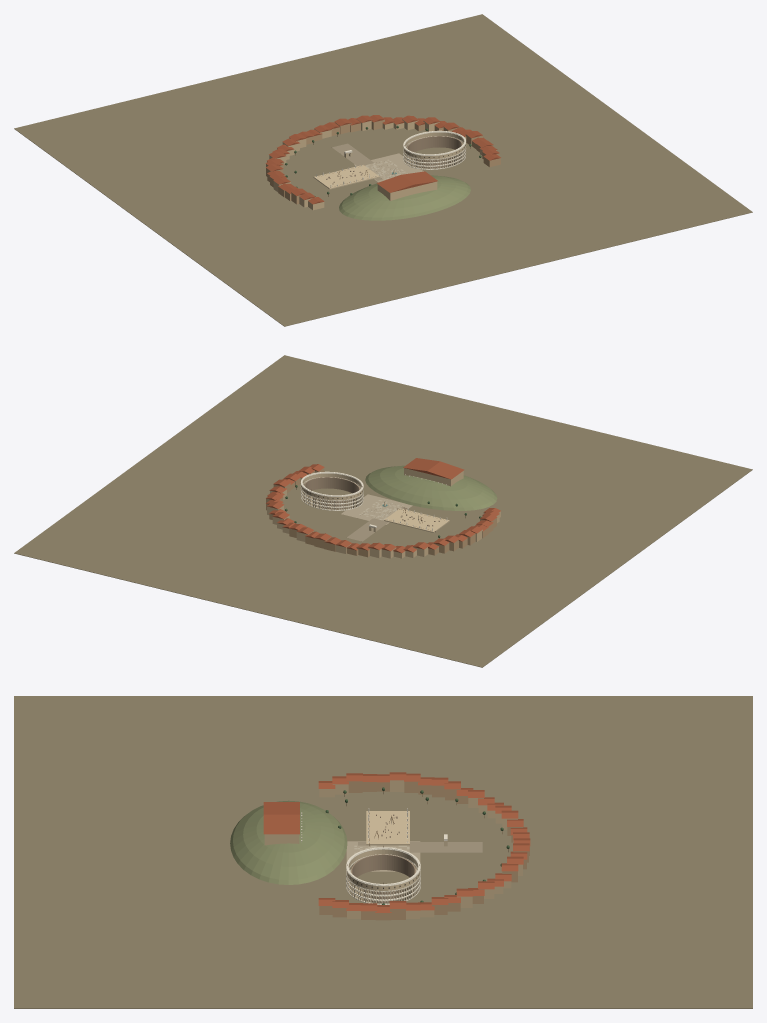
Rendered from colosseum-valley.glb.
The picture shows the model from 3 angles, top to bottom: view 1: azimuth 30°, elevation 25°; view 2: azimuth 150°, elevation 25°; view 3: azimuth 270°, elevation 25°; orthographic projection. The views are drawn at different scales.
Parts seen in each view (by area): view 1: scenery_earth, scenery_roof, scenery_grass, scenery_plaster_light, scenery_plaster, rome125_colosseum_outer_arcade_travertine, rome125_venus_roma_worksite_travertine, rome125_colosseum_outer_arcade_shadow_stone, scenery_paving, rome125_colosseum_outer_arcade_trim; view 2: scenery_earth, scenery_grass, scenery_roof, scenery_plaster_light, scenery_plaster, rome125_colosseum_outer_arcade_travertine, scenery_paving, rome125_venus_roma_worksite_travertine, rome125_colosseum_outer_arcade_shadow_stone, rome125_colosseum_outer_arcade_trim; view 3: scenery_earth, scenery_grass, scenery_roof, scenery_plaster, scenery_plaster_light, rome125_colosseum_outer_arcade_travertine, rome125_venus_roma_worksite_travertine, rome125_colosseum_outer_arcade_shadow_stone, rome125_colosseum_outer_arcade_trim, scenery_paving_dark.
Boxes of the visible parts, x1,y1,x2,y2 form: scenery_earth: (14, 14, 752, 326); scenery_roof: (265, 115, 500, 204); scenery_grass: (339, 175, 470, 220); scenery_plaster_light: (269, 119, 496, 210); scenery_plaster: (266, 119, 500, 204); rome125_colosseum_outer_arcade_travertine: (403, 132, 465, 169); rome125_venus_roma_worksite_travertine: (313, 165, 379, 189); rome125_colosseum_outer_arcade_shadow_stone: (407, 136, 462, 168); scenery_paving: (354, 153, 423, 182); rome125_colosseum_outer_arcade_trim: (403, 130, 466, 169); scenery_earth: (14, 355, 752, 667); scenery_grass: (365, 465, 497, 510); scenery_roof: (266, 458, 500, 552); scenery_plaster_light: (267, 468, 500, 558); scenery_plaster: (266, 468, 496, 557); rome125_colosseum_outer_arcade_travertine: (301, 473, 363, 510); scenery_paving: (341, 494, 412, 524); rome125_venus_roma_worksite_travertine: (384, 508, 449, 532); rome125_colosseum_outer_arcade_shadow_stone: (304, 477, 359, 509); rome125_colosseum_outer_arcade_trim: (300, 471, 363, 510); scenery_earth: (14, 696, 752, 1008); scenery_grass: (230, 800, 347, 884); scenery_roof: (263, 772, 530, 912); scenery_plaster: (319, 781, 529, 920); scenery_plaster_light: (264, 780, 522, 918); rome125_colosseum_outer_arcade_travertine: (346, 849, 420, 904); rome125_venus_roma_worksite_travertine: (366, 811, 409, 845); rome125_colosseum_outer_arcade_shadow_stone: (351, 854, 415, 903); rome125_colosseum_outer_arcade_trim: (346, 847, 420, 904); scenery_paving_dark: (358, 842, 482, 852).
Size of the model in its own units: 1600 by 166 by 1600.
